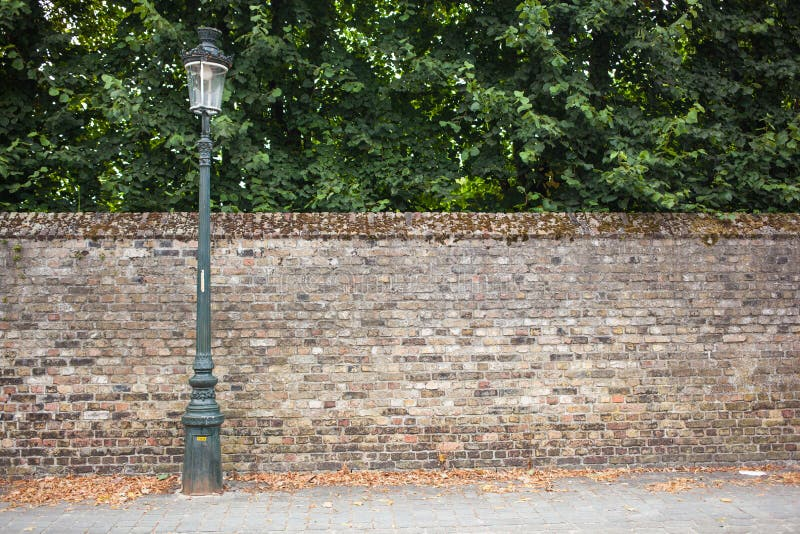Lamp: (178, 26, 227, 495)
Wall: (225, 217, 792, 461)
